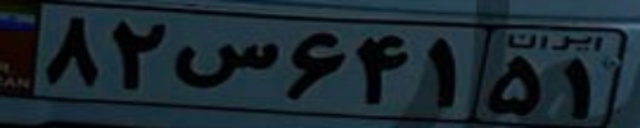1: (425, 37, 454, 106), (561, 56, 591, 120)
2: (109, 20, 166, 91)
4: (354, 34, 410, 105)
5: (482, 55, 547, 117)
6: (285, 31, 346, 101)
8: (42, 14, 100, 88)
sin: (171, 41, 278, 91)
